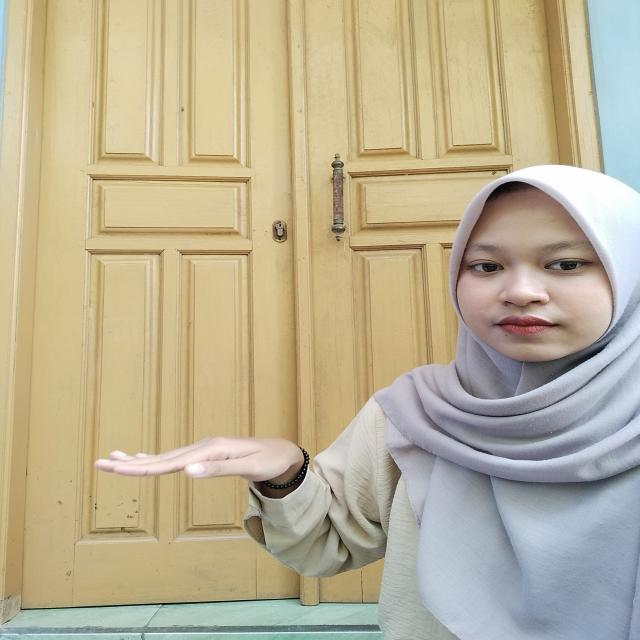adik: (79, 425, 327, 516)
